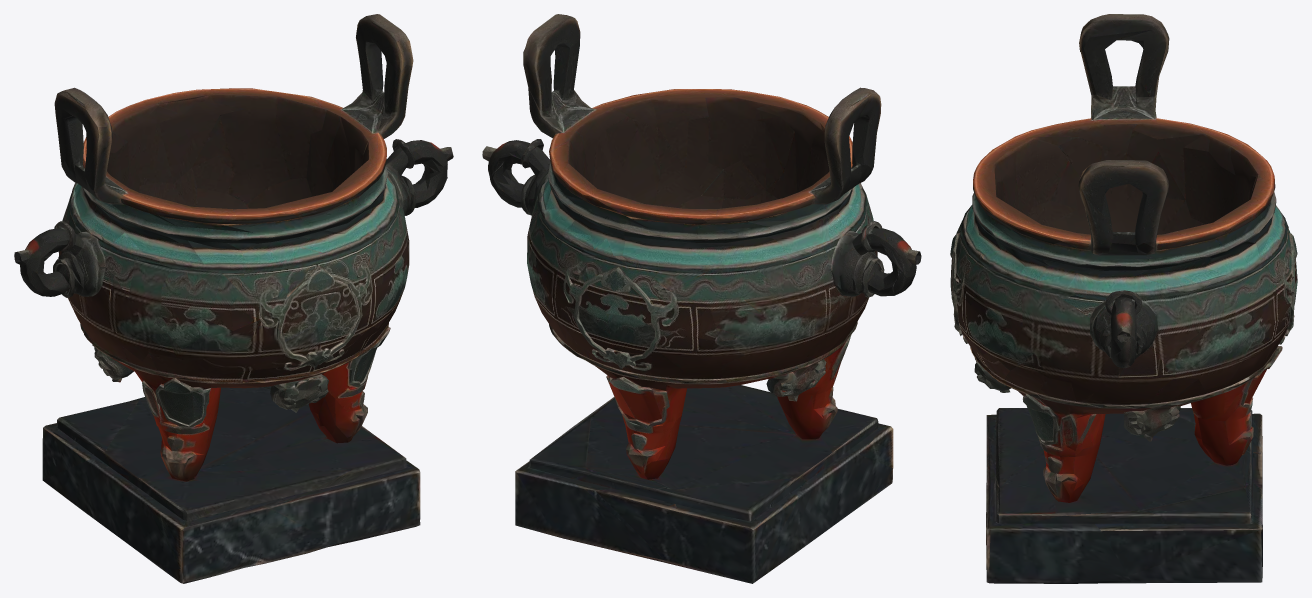
The model's file is cauldron.glb.
The picture shows the model from 3 angles, left to right: view 1: azimuth 30°, elevation 25°; view 2: azimuth 150°, elevation 25°; view 3: azimuth 270°, elevation 25°; orthographic projection.
Size of the model in its own units: 1.9 by 1.86 by 1.33.
1 material, 1 textured.
